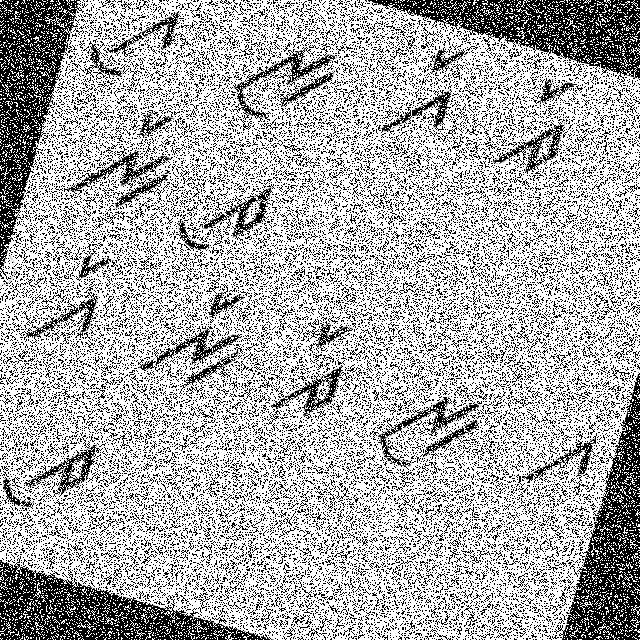ga: (507, 409, 602, 504)
gar: (356, 27, 474, 164), (21, 232, 122, 358)
gaw: (83, 0, 194, 98)
ngar: (64, 90, 190, 222), (136, 275, 258, 407)
ngaw: (223, 21, 350, 143), (363, 368, 488, 491)
tar: (266, 299, 366, 432), (492, 68, 590, 188)
taw: (0, 391, 115, 536), (165, 154, 280, 274)
